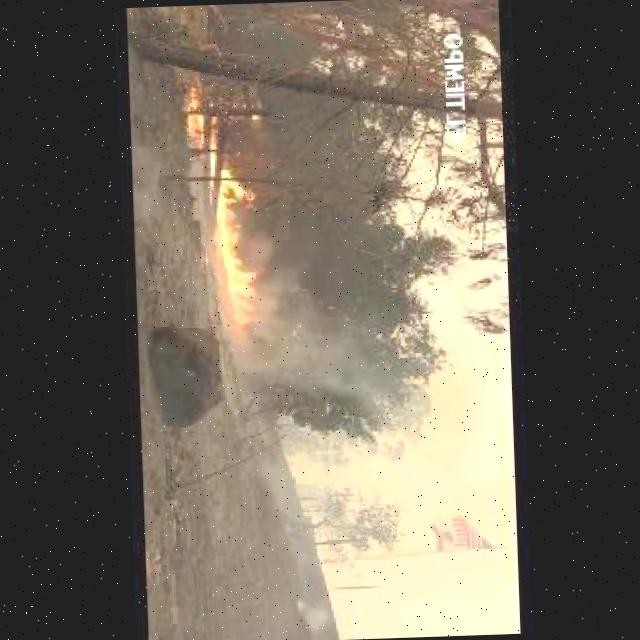fire: (209, 136, 268, 344), (188, 89, 204, 147)
